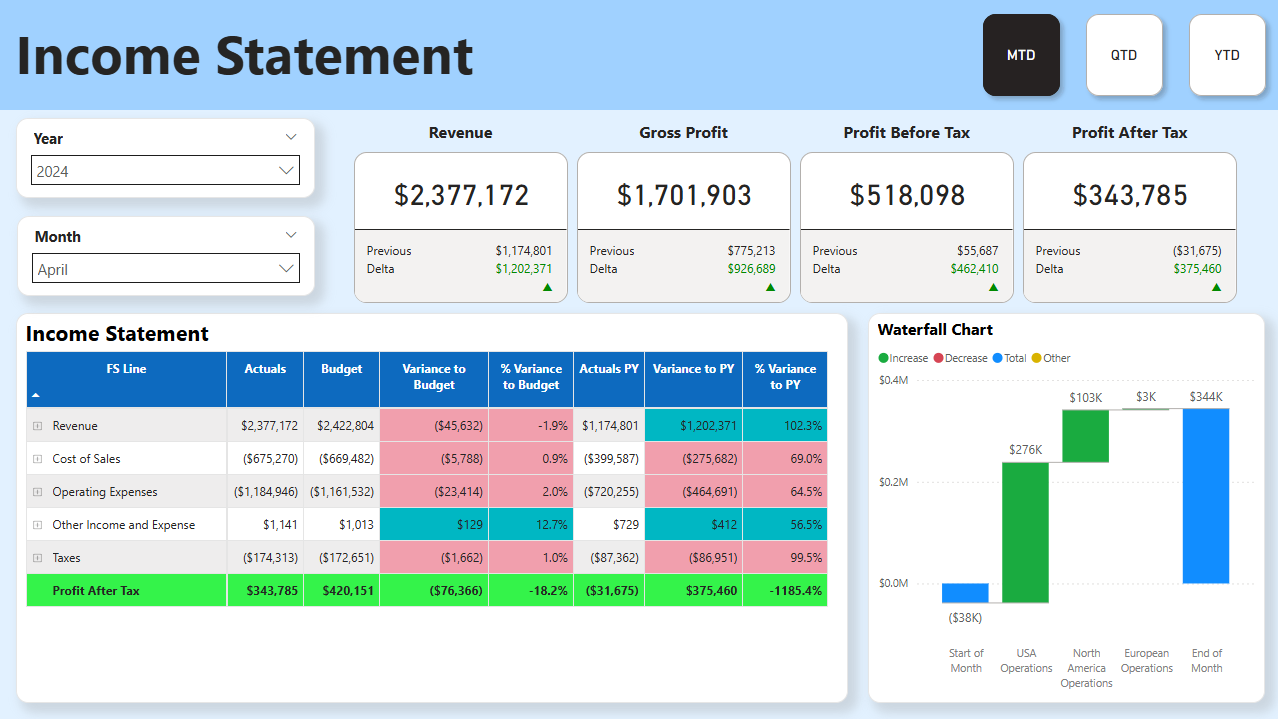

The page's visual inventory and layout, read from the dashboard file:
{"tool":"powerbi","page":{"name":"Income Statement","canvas":[1280,720],"ordinal":0},"visuals":[{"type":"textbox","title":"Income Statement","box":[0,0,1280,109.5],"z":0},{"type":"pivotTable","title":"Income Statement","fields":{"Values":["FinanceData.Actuals By Period","FinanceData.Budget By Period","FinanceData.Variance to Budget","FinanceData.% Variance to Budget","FinanceData.Actuals PY","FinanceData.Actuals Variance to PY","DimAccounts.Actuals Variance to PY %"],"Rows":["DimHeaders.Header","DimAccounts.Subheader","DimAccounts.Subheader2"]},"box":[15.9,312.5,832.2,390],"z":1000},{"type":"slicer","fields":{"Values":["DimDates.Year"]},"box":[16.1,118.4,299.4,79.6],"z":2000},{"type":"slicer","fields":{"Values":["DimDates.Month"]},"box":[17.1,216,298.4,79.6],"z":3000},{"type":"advancedSlicerVisual","fields":{"Values":["PeriodSelection.PeriodSelection"]},"box":[969.2,0,310.8,109.9],"z":4000},{"type":"waterfallChart","title":"Waterfall Chart","fields":{"Category":["PeriodWaterfallSelections.Waterfall Selections"],"Y":["PeriodWaterfallSelections.Total Actuals for Waterfall"],"Breakdown":["DimOrganizations.Parent Organization"]},"box":[867.6,312.5,397.4,390],"z":5000},{"type":"cardVisual","fields":{"Rows":["Measure Selection.Measure"],"Data":["Measure Selection.Measure Value CY"]},"box":[325.3,110.4,939.2,201.9],"z":6000}]}

Visuals, with their boxes in screenshot pixels (x1, y1, x2, y2), scaled from the page's 1280x720 canvas onto the 1278x719 screenshot:
"Income Statement" textbox: box=[0, 0, 1277, 109]
"Income Statement" pivotTable: box=[16, 312, 847, 702]
slicer - DimDates.Year: box=[16, 118, 315, 198]
slicer - DimDates.Month: box=[17, 216, 315, 295]
advancedSlicerVisual - PeriodSelection.PeriodSelection: box=[968, 0, 1277, 110]
"Waterfall Chart" waterfallChart: box=[866, 312, 1263, 702]
cardVisual - Measure Selection.Measure x Measure Selection.Measure Value CY: box=[325, 110, 1263, 312]
